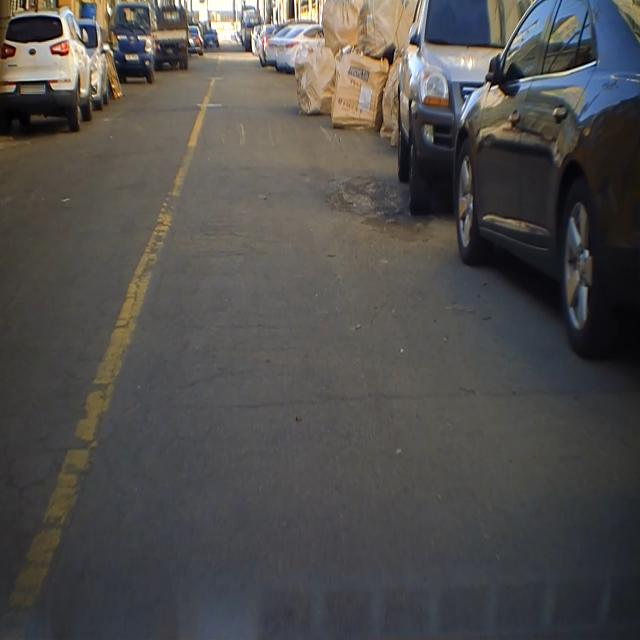Pothole: (318, 151, 428, 250)
